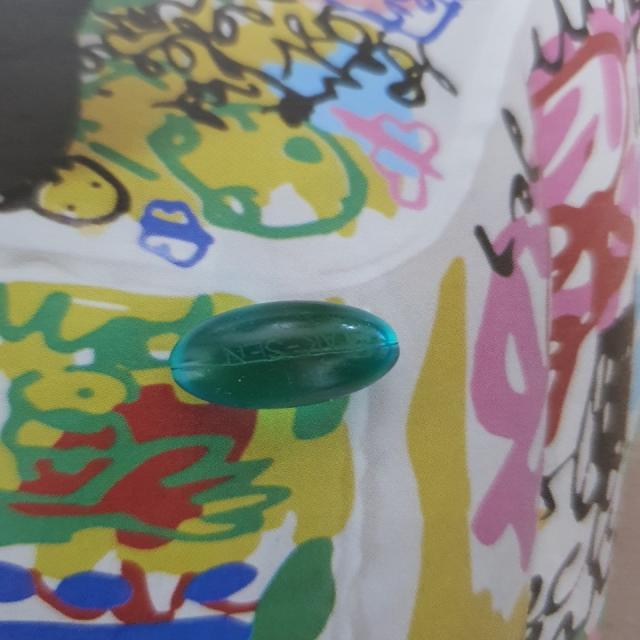pill: (146, 298, 406, 416)
